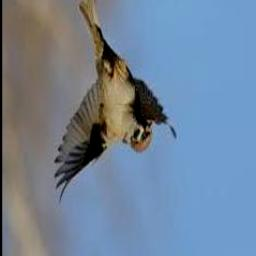Sparrow: (56, 0, 177, 203)
